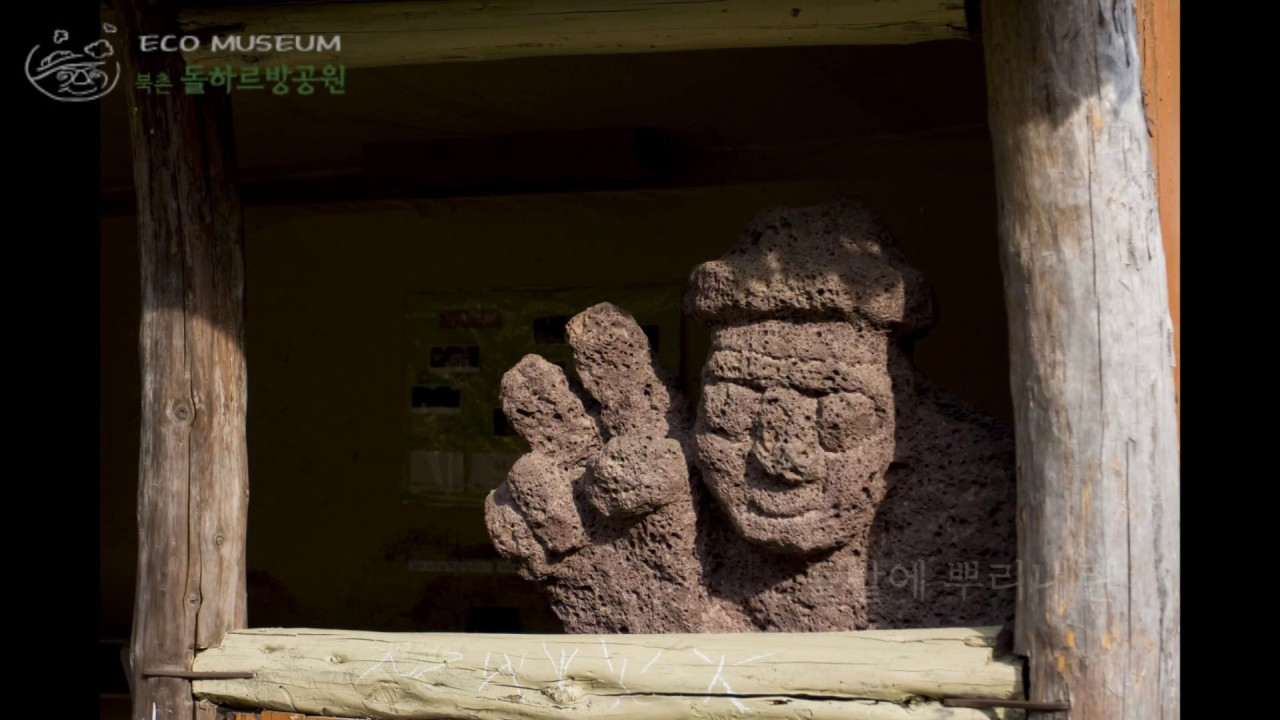Stone Statue: (417, 182, 1195, 720)
